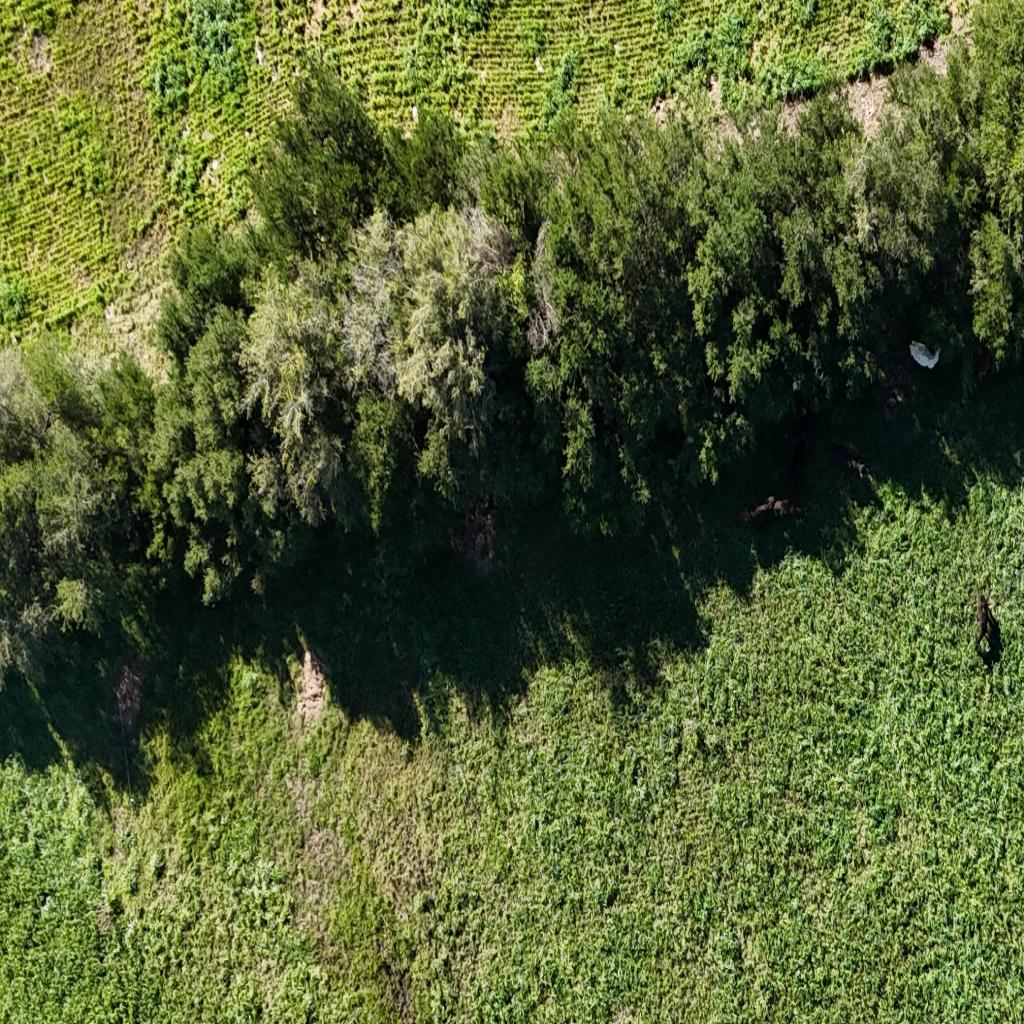cow: (729, 482, 805, 546), (822, 424, 882, 496), (906, 322, 950, 390), (968, 579, 1002, 665)
